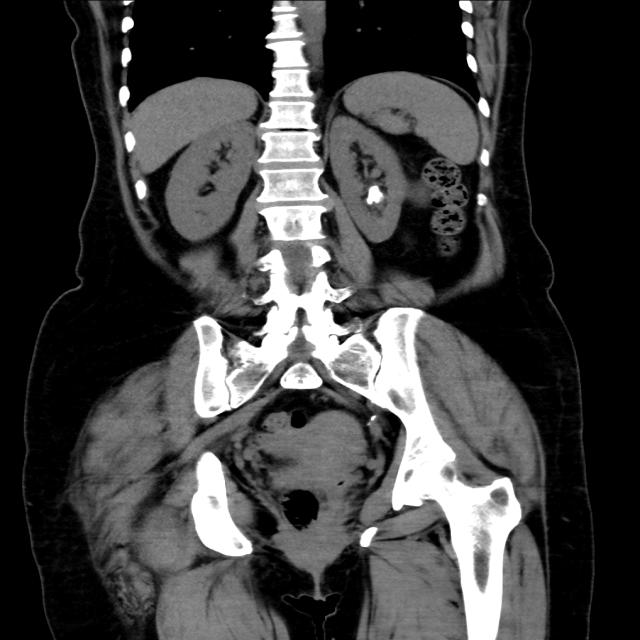kidneystone: (367, 185, 383, 204)
